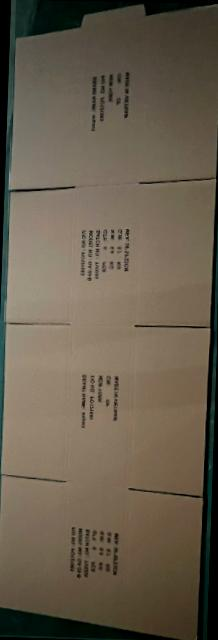box: (0, 4, 218, 640)
